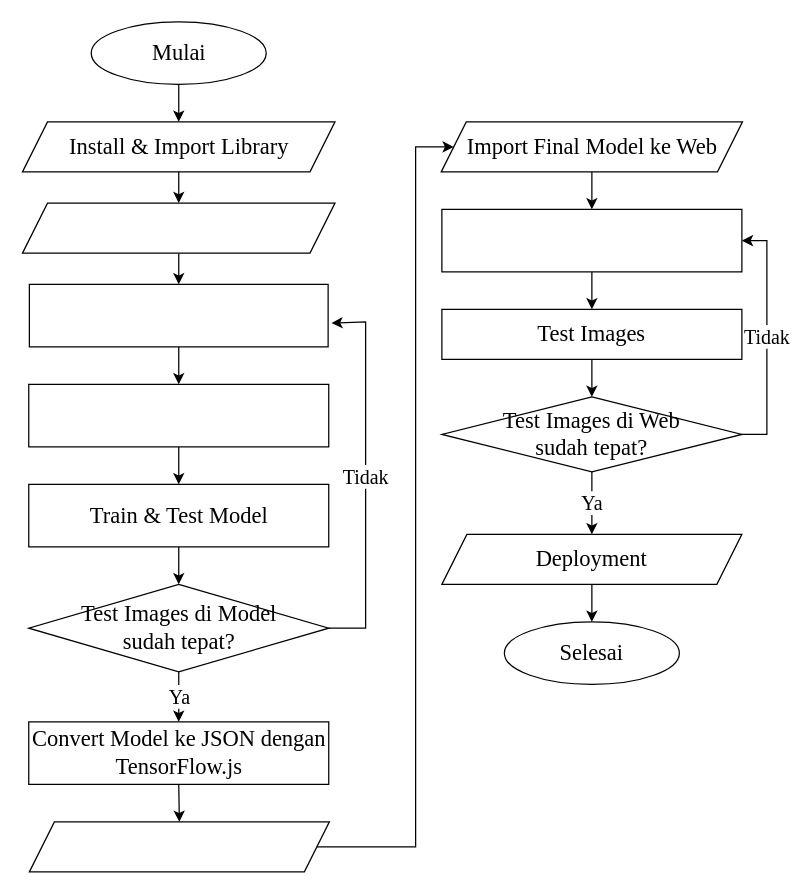
The diagram is 811 pixels wide and 894 high, and some of its shapes have lost their labels. The centre of each missing label's shape, as x and y in pixels:
"Data Collecting & Cleaning" goes at pixel 178 227.
"Data Preprocessing & Transformation" goes at pixel 178 315.
"Export Final Model" goes at pixel 178 846.
"Membuat Image Predict TensorFlow.js" goes at pixel 591 240.
"Membuat Layer & Model" goes at pixel 178 415.
